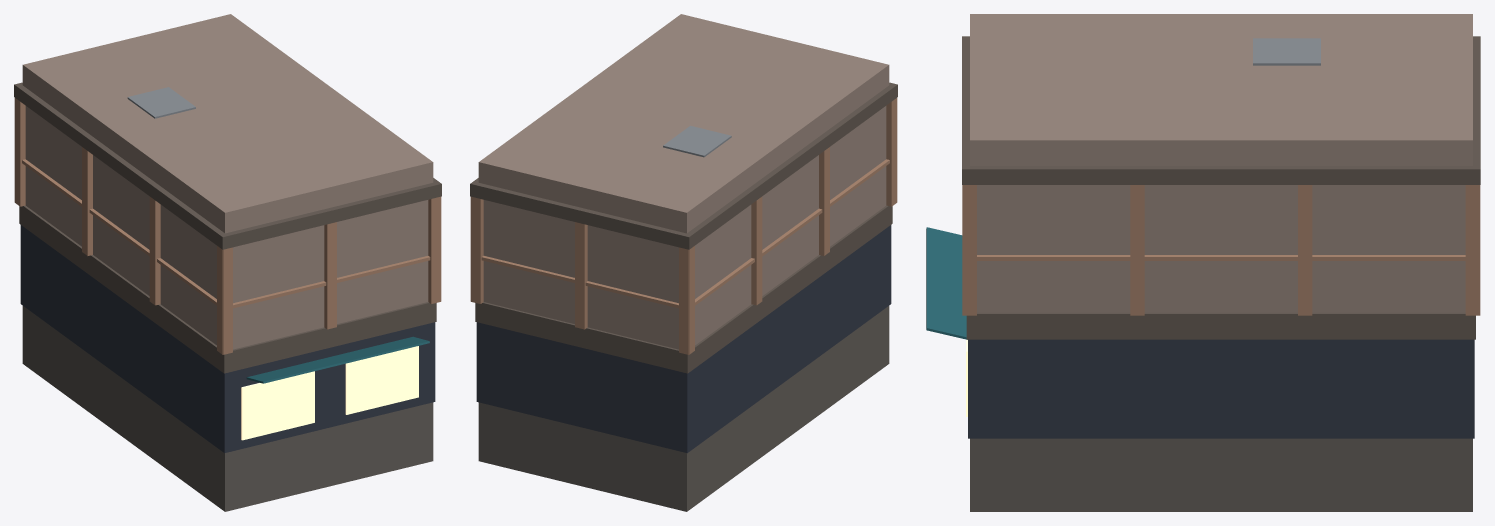
Rendered from building_0.glb.
3 renders of one model, left to right at view 1: azimuth 30°, elevation 25°; view 2: azimuth 150°, elevation 25°; view 3: azimuth 270°, elevation 25°, orthographic. The views are drawn at different scales.
Visible parts, largest first — view 1: building; view 2: building; view 3: building.
Part boxes in pixels (bbox=[...]): building: bbox=[14, 14, 441, 511]; building: bbox=[470, 14, 897, 511]; building: bbox=[926, 14, 1480, 511].
Size of the model in its own units: 10 by 13.13 by 17.64.
